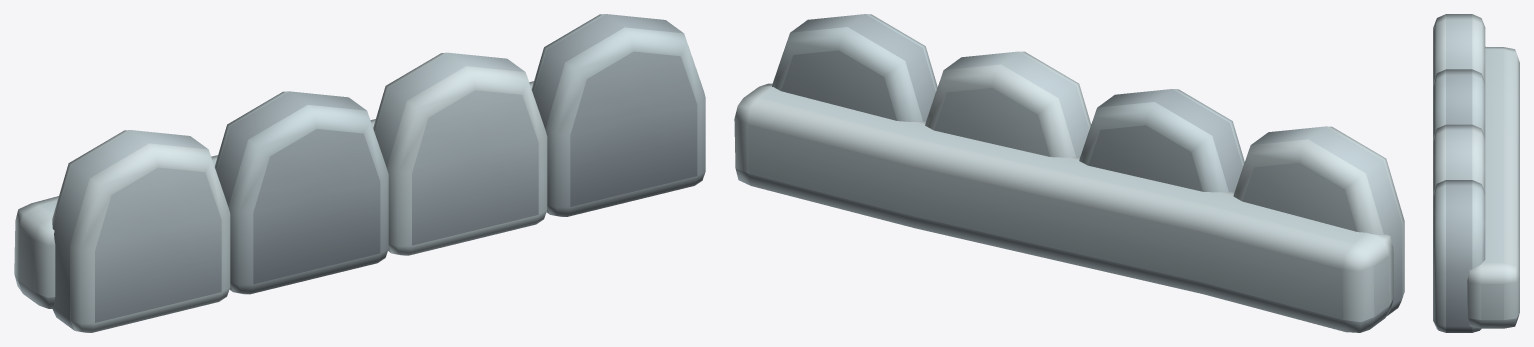
Rendered from fence_short_double_LOD_setup.fbx.
3 renders of one model, left to right at view 1: azimuth 30°, elevation 25°; view 2: azimuth 150°, elevation 25°; view 3: azimuth 270°, elevation 25°, orthographic. The views are drawn at different scales.
Parts seen in each view (by area): view 1: fence_short_double_LOD0; view 2: fence_short_double_LOD0; view 3: fence_short_double_LOD0.
Boxes of the visible parts, left/top/right/bottom form: fence_short_double_LOD0: left=14, top=14, right=705, bottom=332; fence_short_double_LOD0: left=734, top=14, right=1404, bottom=332; fence_short_double_LOD0: left=1433, top=14, right=1519, bottom=332.
Size of what is drawn, in the model's own units: 207 by 52.5 by 33.19.
